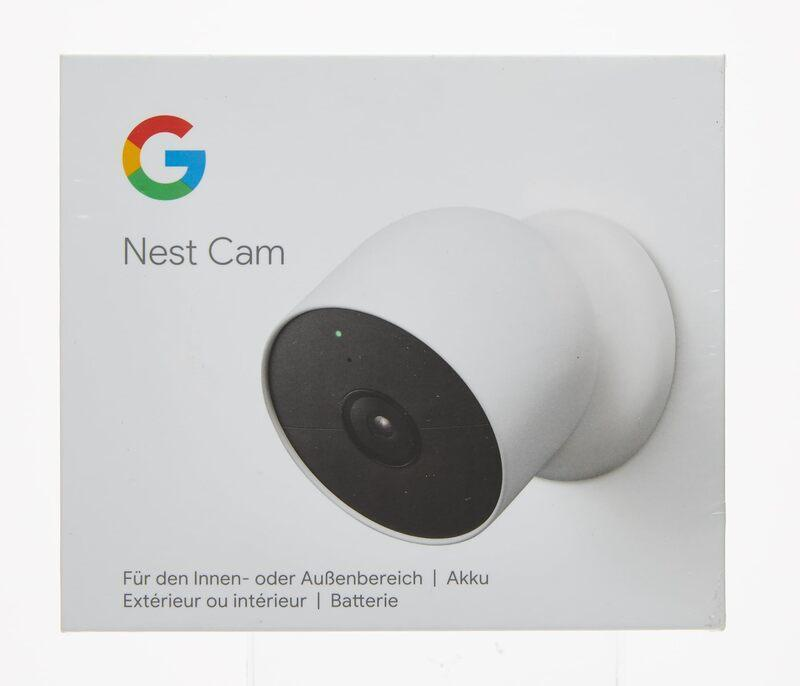nest: (254, 201, 677, 548)
